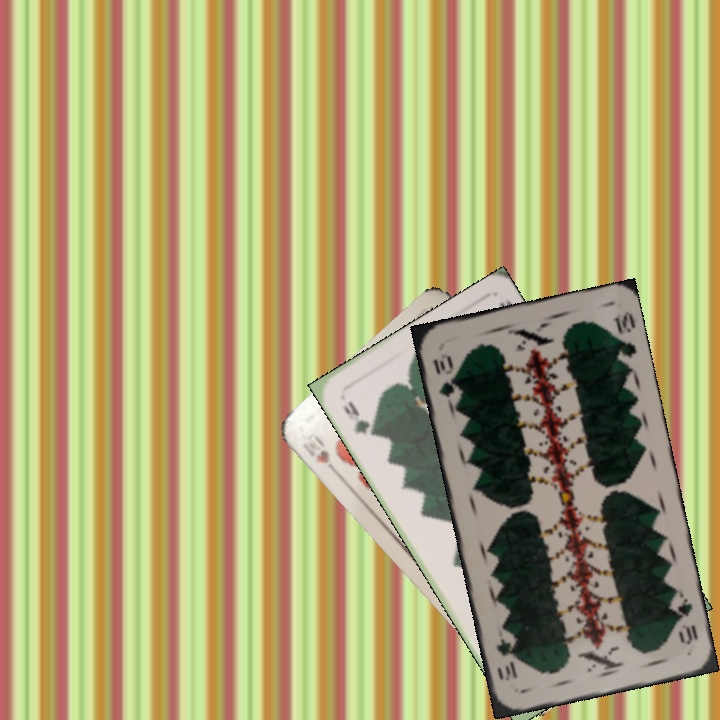G10: (667, 590, 701, 647), (429, 349, 458, 400)
G9: (338, 397, 380, 440)
H10: (298, 429, 343, 479)
